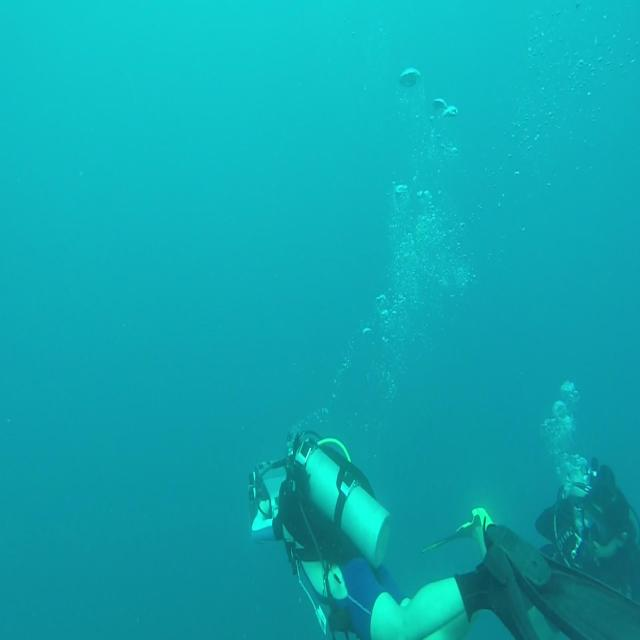human: (248, 428, 639, 638), (431, 450, 640, 590)
